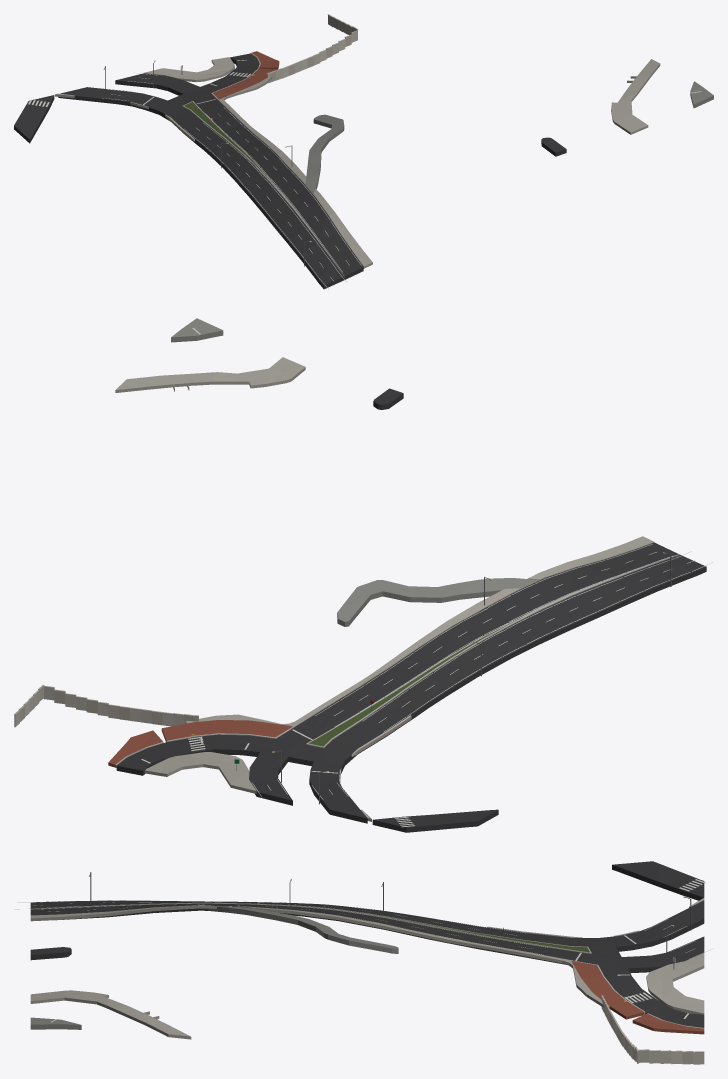
3 views of the same model, one above another, from view 1: azimuth 30°, elevation 25°; view 2: azimuth 150°, elevation 25°; view 3: azimuth 270°, elevation 25° (orthographic). The views are drawn at different scales.
Size of the model in its own units: 147 by 32.29 by 151.
